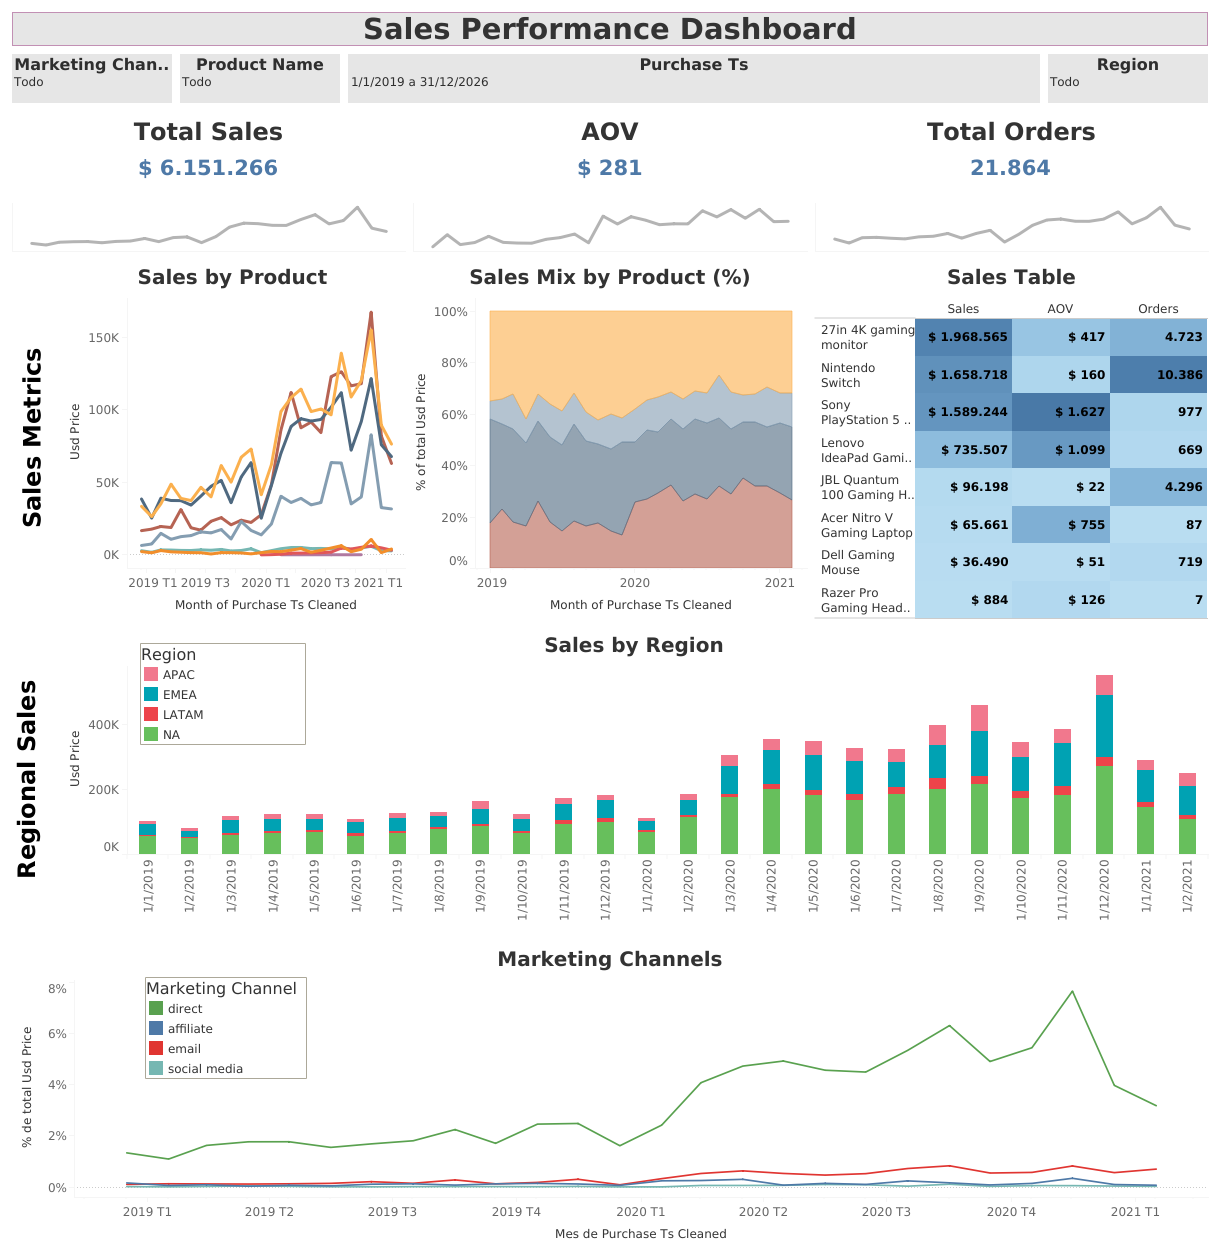

The page's visual inventory and layout, read from the dashboard file:
{"tool":"tableau","page":{"name":"Sales Performance Dashboard","canvas":[1220,1260],"ordinal":0},"visuals":[{"type":"title","box":[8,8,1204,41]},{"type":"filter","title":"Sales by Product","param":"[federated.0ctzc9f1vmztbf160tidg1bljfb7].[none:MARKETING_CHANNEL_CLEANED:nk]","box":[8,49,168,57]},{"type":"filter","title":"Sales by Product","param":"[federated.0ctzc9f1vmztbf160tidg1bljfb7].[none:PRODUCT_NAME_CLEANED:nk]","box":[176,49,168,57]},{"type":"filter","title":"Sales by Product","param":"[federated.0ctzc9f1vmztbf160tidg1bljfb7].[none:PURCHASE_TS_CLEANED:qk]","box":[344,49,700,57]},{"type":"filter","title":"Sales by Product","param":"[federated.0ctzc9f1vmztbf160tidg1bljfb7].[none:REGION:nk]","box":[1044,49,168,57]},{"type":"worksheet","title":"Total Sales","mark":"Automatic","box":[8,106,401.3,91.8]},{"type":"worksheet","title":"AOV","mark":"Automatic","box":[409.3,106,401.3,91.8]},{"type":"worksheet","title":"Total Orders","mark":"Automatic","box":[810.6,106,401.4,91.8]},{"type":"worksheet","title":"Overall USD Graph","mark":"Automatic","rows":["USD_PRICE"],"cols":["PURCHASE_TS_CLEANED"],"box":[8,197.8,401.3,56.2]},{"type":"worksheet","title":"AOV-Overall USD Graph","mark":"Automatic","rows":["USD_PRICE"],"cols":["PURCHASE_TS_CLEANED"],"box":[409.3,197.8,401.3,56.2]},{"type":"worksheet","title":"Product Count Graph","mark":"Automatic","rows":["orders!CLEANED_D53BA3FAE6844283B686646AEEEC8CB5"],"cols":["PURCHASE_TS_CLEANED"],"box":[810.6,197.8,401.4,56.2]},{"type":"text","box":[8,254,48,369]},{"type":"worksheet","title":"Sales by Product","mark":"Automatic","rows":["USD_PRICE"],"cols":["PURCHASE_TS_CLEANED"],"box":[56,254,353,369]},{"type":"worksheet","title":"Sales Mix by Product (%)","mark":"Area","cols":["PURCHASE_TS_CLEANED"],"box":[409,254,402,369]},{"type":"worksheet","title":"Sales Table","mark":"Square","rows":["PRODUCT_NAME_CLEANED"],"box":[810.9,254,401.1,369]},{"type":"text","box":[8,623,48,314.5]},{"type":"worksheet","title":"Sales by Region (2)","mark":"Bar","rows":["USD_PRICE"],"cols":["PURCHASE_TS_CLEANED"],"box":[56,623,1156,314.5]},{"type":"legend","title":"Sales by Region (2)","param":"[federated.0ctzc9f1vmztbf160tidg1bljfb7].[none:REGION:nk]","box":[140,643,166,119]},{"type":"worksheet","title":"Revenue by Marketing Channel","mark":"Automatic","rows":["USD_PRICE"],"cols":["PURCHASE_TS_CLEANED"],"box":[8,937.5,1204,314.5]},{"type":"legend","title":"Revenue by Marketing Channel","param":"[federated.0ctzc9f1vmztbf160tidg1bljfb7].[none:MARKETING_CHANNEL_CLEANED:nk]","box":[145,977,162,112]}]}

Visuals, with their boxes in screenshot pixels (x1, y1, x2, y2), scaled from the page's 1220x1260 canvas onto the 1219x1259 screenshot:
title: x1=8 y1=8 x2=1211 y2=49
"Sales by Product" filter: x1=8 y1=49 x2=176 y2=106
"Sales by Product" filter: x1=176 y1=49 x2=344 y2=106
"Sales by Product" filter: x1=344 y1=49 x2=1043 y2=106
"Sales by Product" filter: x1=1043 y1=49 x2=1211 y2=106
"Total Sales" worksheet: x1=8 y1=106 x2=409 y2=198
"AOV" worksheet: x1=409 y1=106 x2=810 y2=198
"Total Orders" worksheet: x1=810 y1=106 x2=1211 y2=198
"Overall USD Graph" worksheet: x1=8 y1=198 x2=409 y2=254
"AOV-Overall USD Graph" worksheet: x1=409 y1=198 x2=810 y2=254
"Product Count Graph" worksheet: x1=810 y1=198 x2=1211 y2=254
text: x1=8 y1=254 x2=56 y2=623
"Sales by Product" worksheet: x1=56 y1=254 x2=409 y2=623
"Sales Mix by Product (%)" worksheet (Area marks): x1=409 y1=254 x2=810 y2=623
"Sales Table" worksheet (Square marks): x1=810 y1=254 x2=1211 y2=623
text: x1=8 y1=623 x2=56 y2=937
"Sales by Region (2)" worksheet (Bar marks): x1=56 y1=623 x2=1211 y2=937
"Sales by Region (2)" legend: x1=140 y1=642 x2=306 y2=761
"Revenue by Marketing Channel" worksheet: x1=8 y1=937 x2=1211 y2=1251
"Revenue by Marketing Channel" legend: x1=145 y1=976 x2=307 y2=1088
